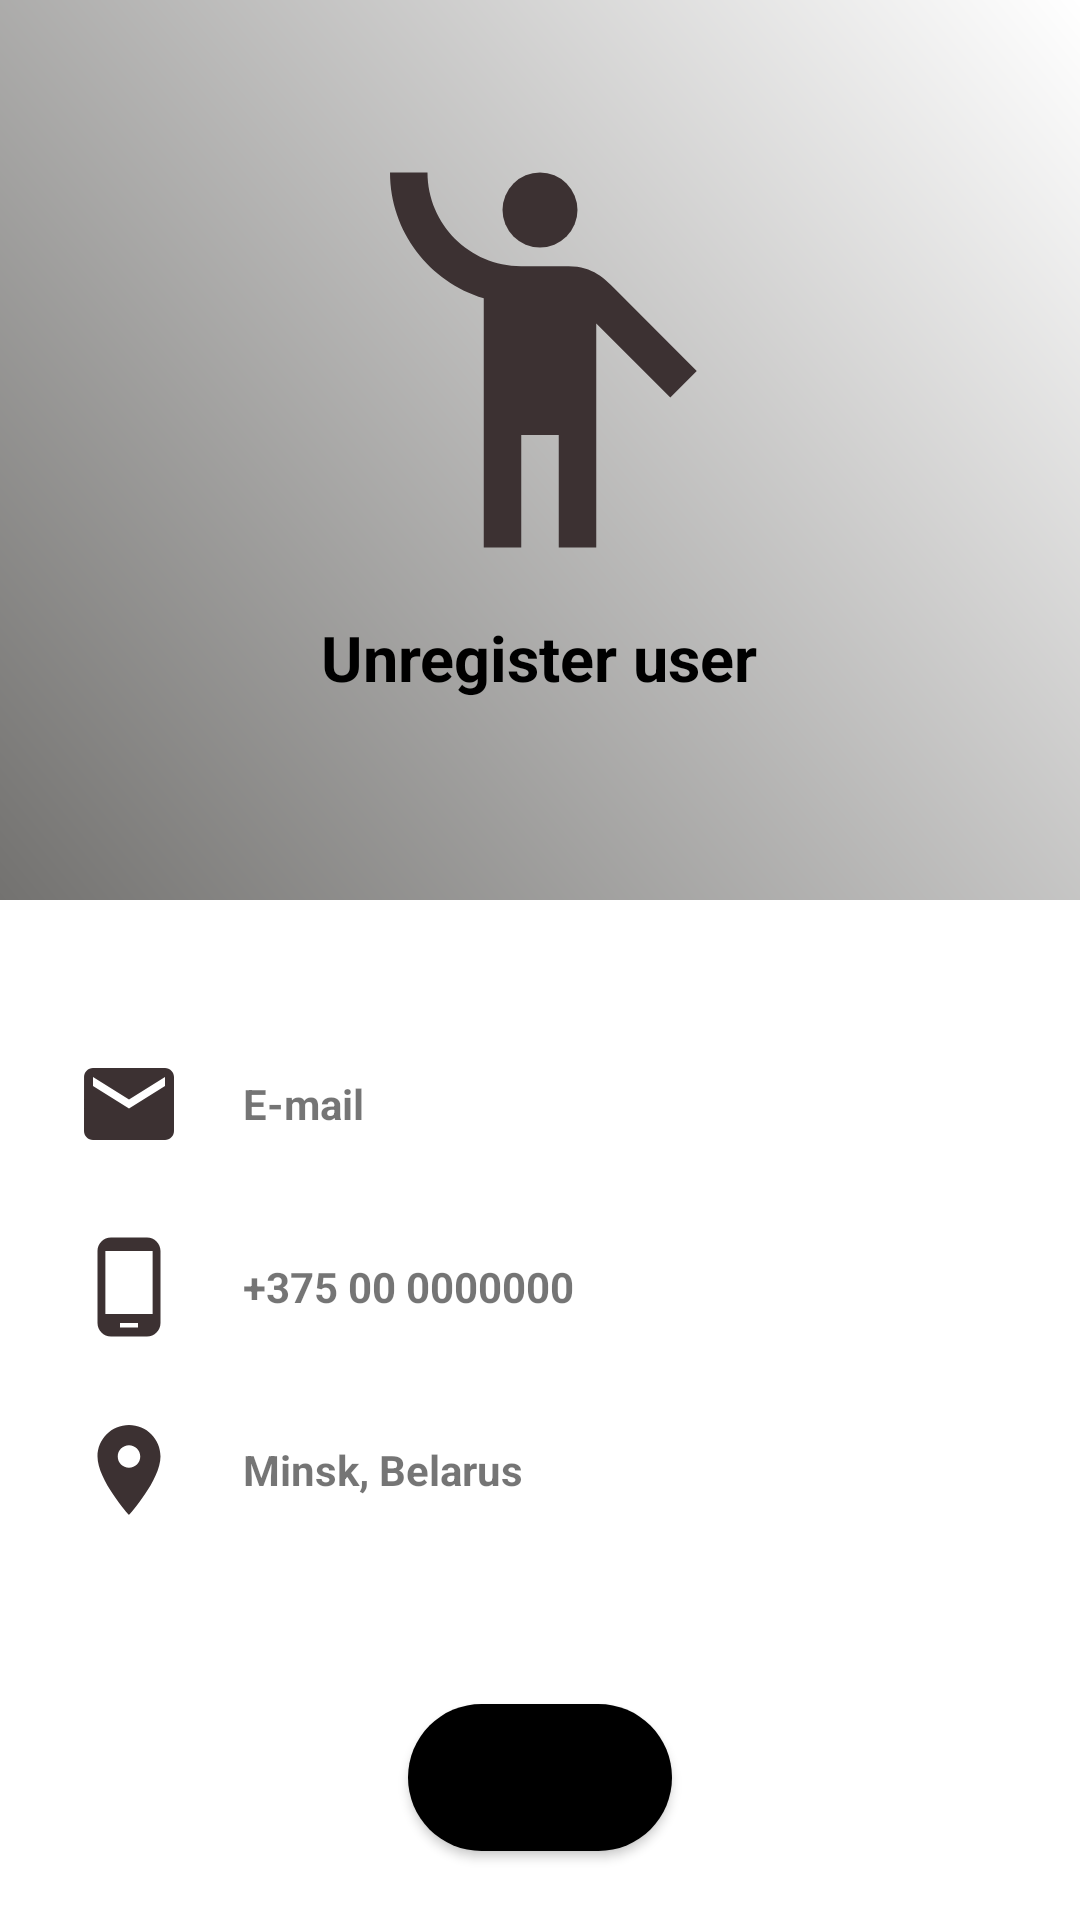

Point at icon controls on the screen. Image size 1080*1920, points as (x=x, y=y).
location on: (x=129, y=1470)
phone android: (x=129, y=1287)
